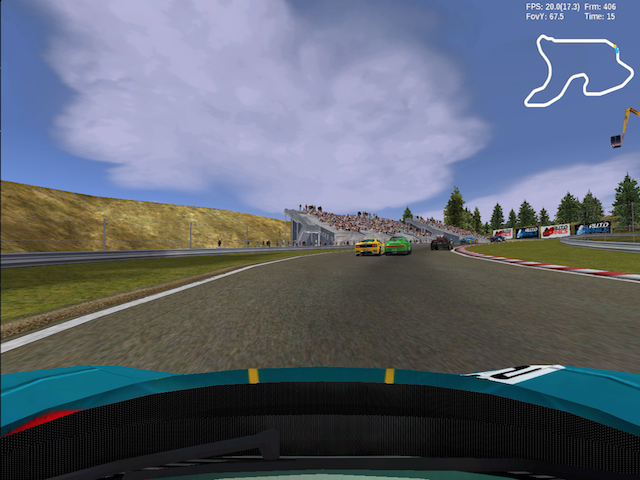Boxer96: (384, 236, 413, 255)
Cavallo360: (355, 238, 385, 257)
FMC_GT4: (490, 236, 506, 243)
Lynx220: (459, 236, 479, 246)
Spirit300: (430, 236, 453, 252)
